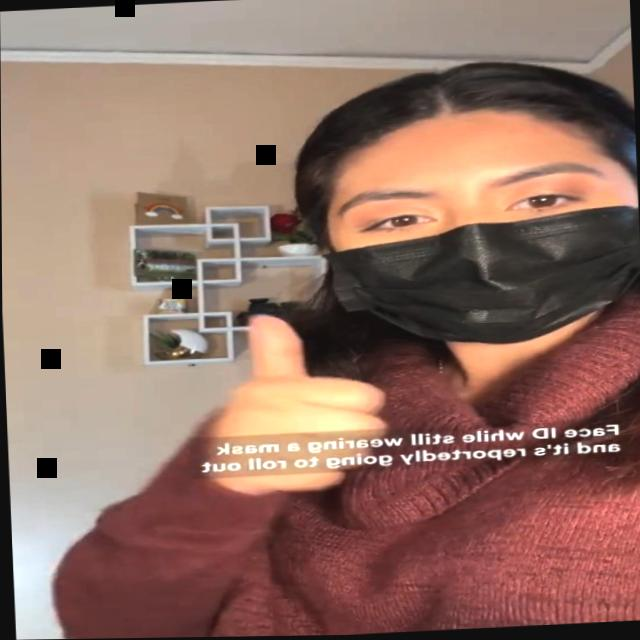Mask: (320, 101, 640, 348)
